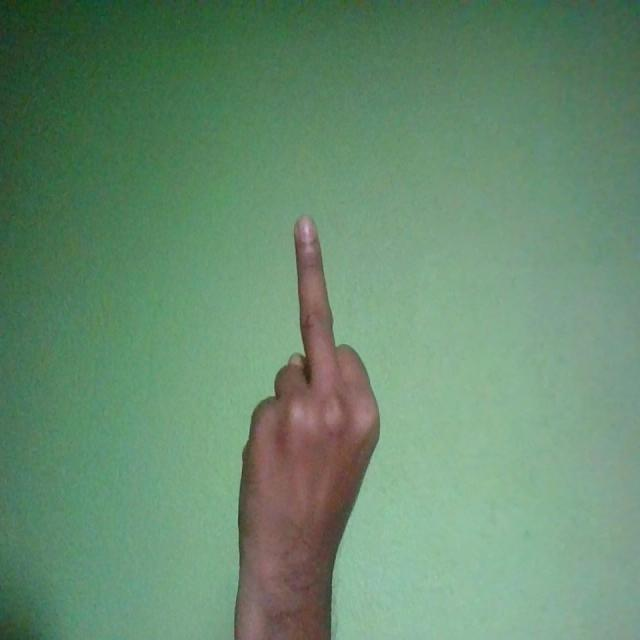Middle Finger: (238, 212, 381, 630)
